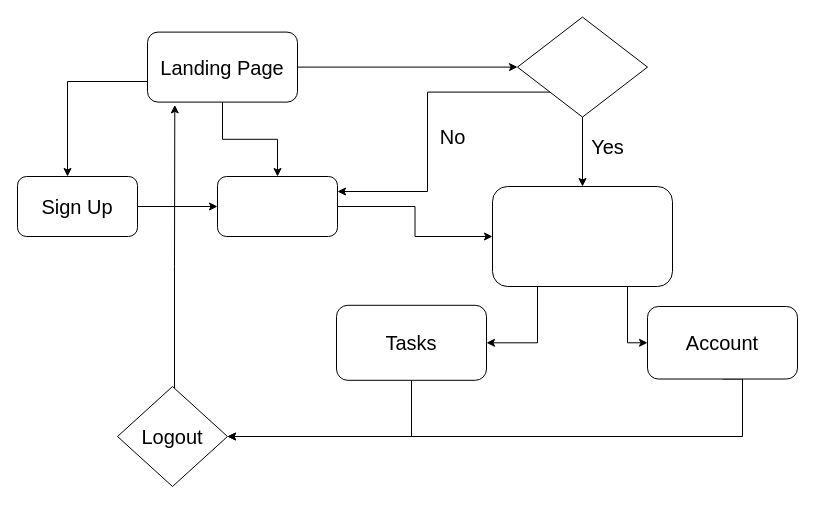
This 815x505 diagram has some shape labels left out. Each missing label, with the centre of its shape:
Dashboard: [582,236]
Logged in?: [582,66]
Login: [277,206]
